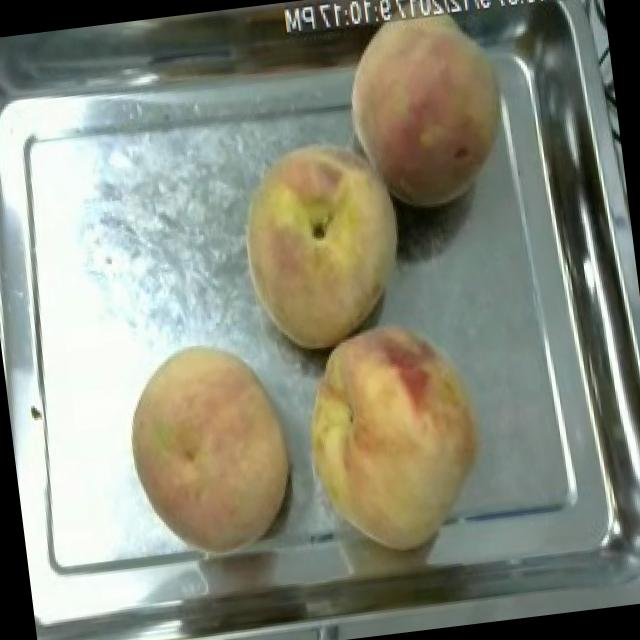Fruit: (284, 304, 502, 566), (224, 123, 426, 364), (108, 330, 310, 568), (326, 0, 530, 229)
